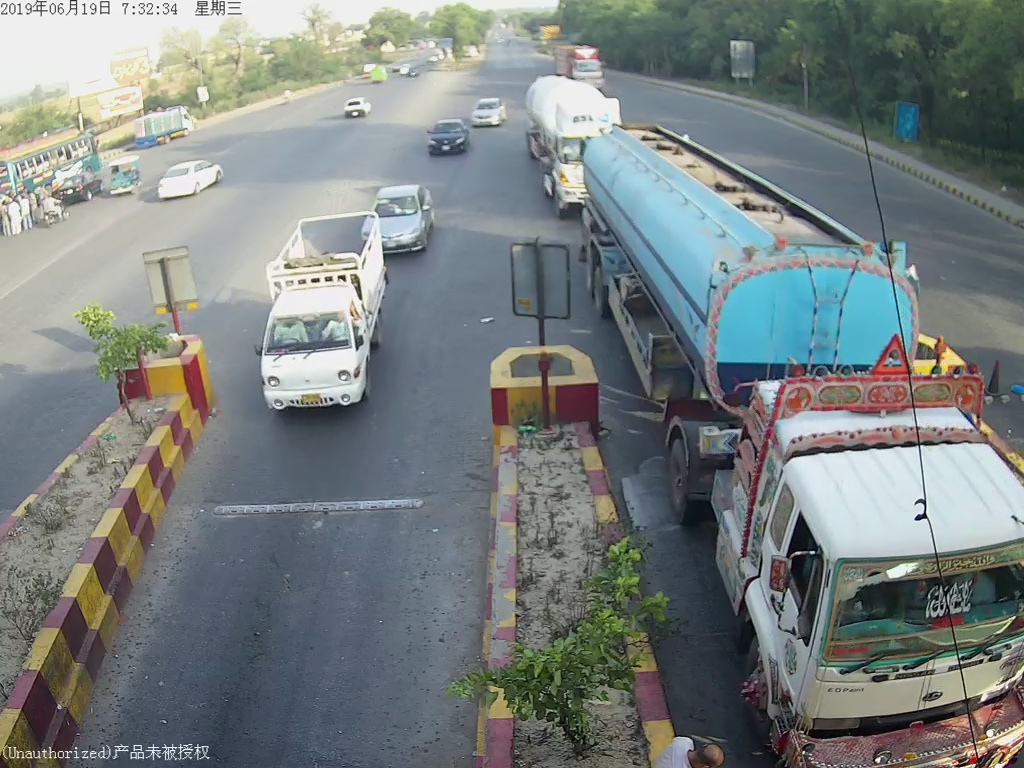Cat-1: (366, 181, 434, 224), (414, 124, 473, 156)
Cat-2: (244, 227, 390, 418)
Cat-5: (578, 130, 1024, 760)
